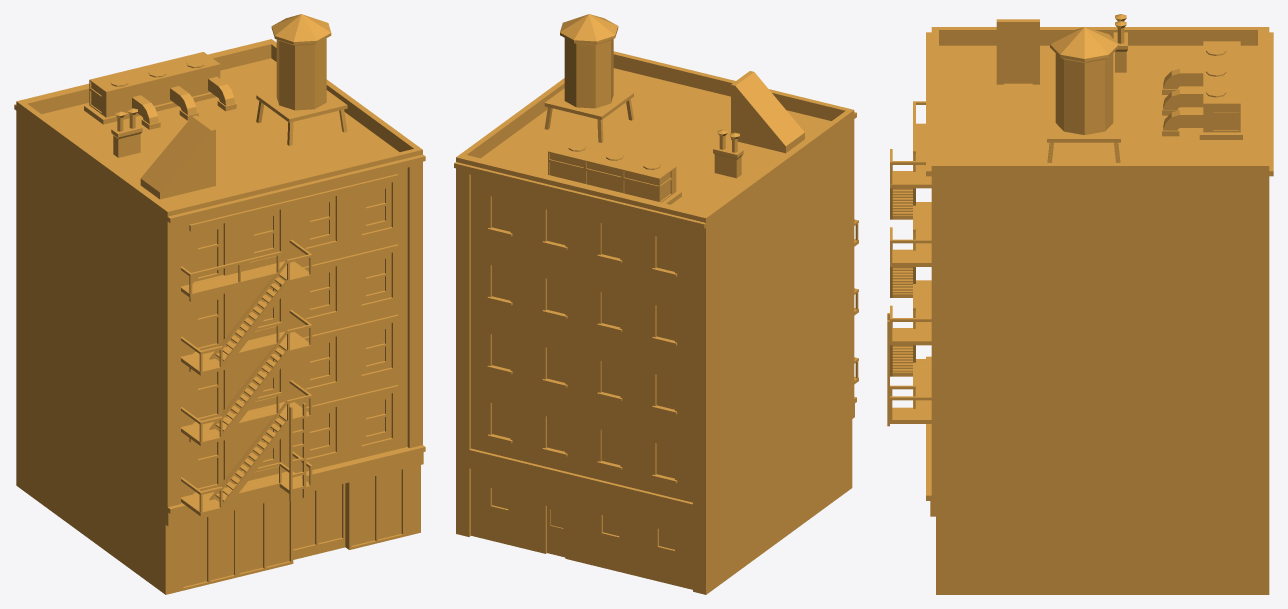
Rendered from building-block-4floor-front.fbx.
3 views of the same model, side by side, from view 1: azimuth 30°, elevation 25°; view 2: azimuth 150°, elevation 25°; view 3: azimuth 270°, elevation 25° (orthographic). The views are drawn at different scales.
Parts seen in each view (by area): view 1: building-block-4floor-front; view 2: building-block-4floor-front; view 3: building-block-4floor-front.
Boxes of the visible parts, left/top/right/bottom form: building-block-4floor-front: left=14, top=14, right=425, bottom=594; building-block-4floor-front: left=454, top=14, right=858, bottom=594; building-block-4floor-front: left=887, top=14, right=1273, bottom=594.
Bounding box in the file's own units: 11.4 × 20.61 × 13.4.
